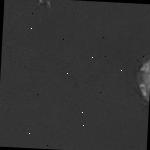colony: (125, 46, 150, 107)
